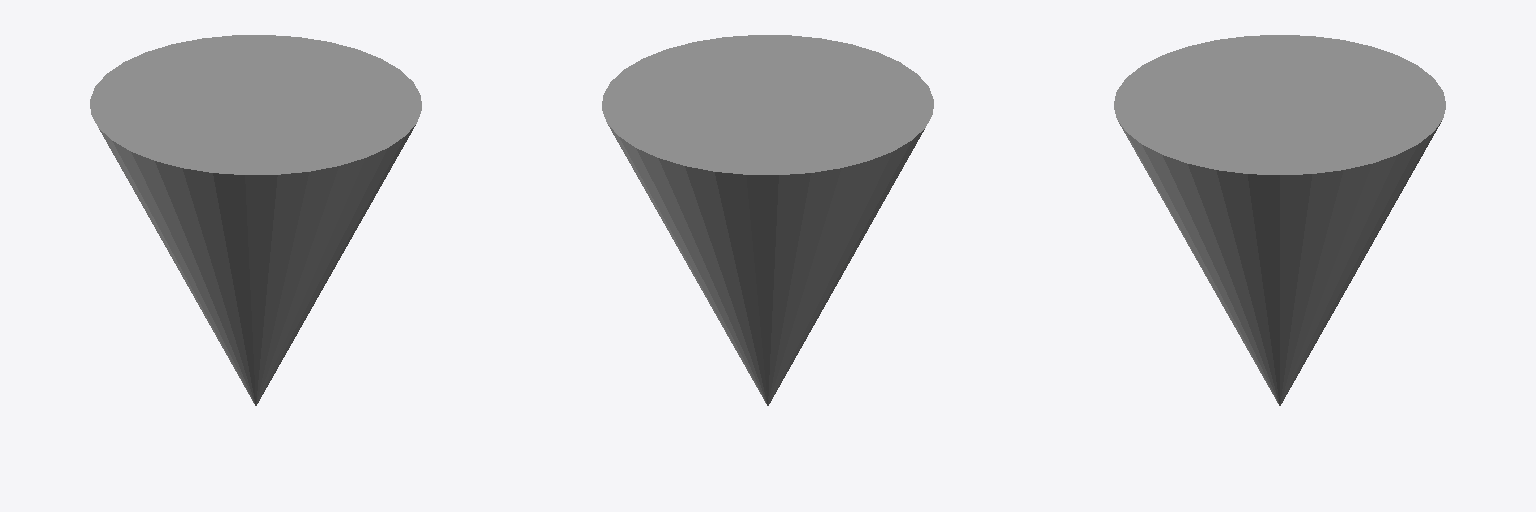
The model's file is island2.obj.
The picture shows the model from 3 angles: view 1: azimuth 30°, elevation 25°; view 2: azimuth 150°, elevation 25°; view 3: azimuth 270°, elevation 25°; orthographic projection.
Visible parts, largest first — view 1: Cone; view 2: Cone; view 3: Cone.
Boxes of the visible parts, box(x1,y1,x2,y2) form: Cone: box(90, 35, 421, 405); Cone: box(602, 35, 933, 405); Cone: box(1114, 35, 1445, 405).
Size of the model in its own units: 2 by 2 by 2.